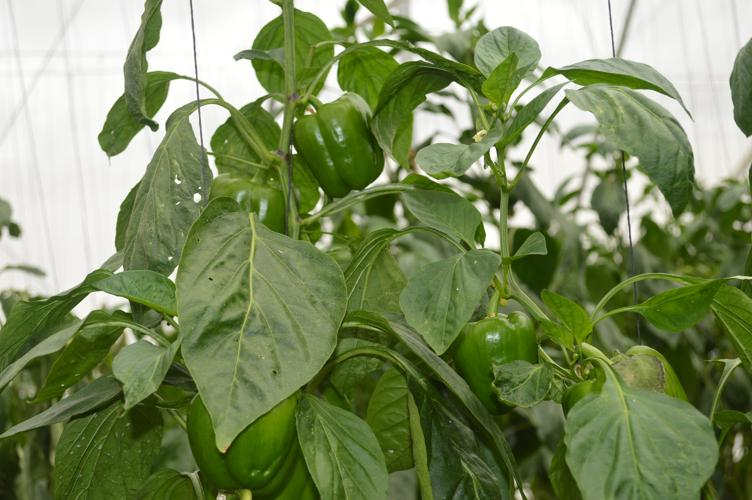BellPepper: (178, 378, 300, 494), (451, 312, 543, 429), (289, 95, 388, 194)
